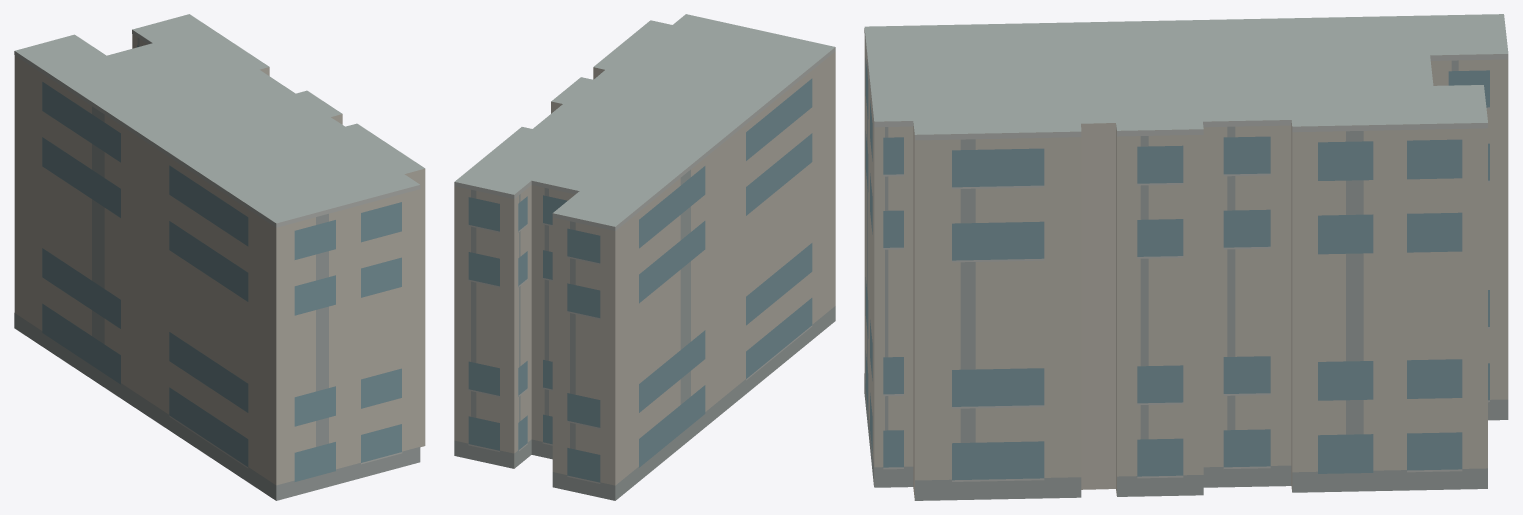
File: survey-upis-32616631.glb
3 renders of one model, left to right at view 1: azimuth 30°, elevation 25°; view 2: azimuth 150°, elevation 25°; view 3: azimuth 270°, elevation 25°, orthographic. The views are drawn at different scales.
Parts seen in each view (by area): view 1: survey-upis-32616631.tmp; view 2: survey-upis-32616631.tmp; view 3: survey-upis-32616631.tmp.
Part boxes in pixels (x1,y1,x2,y2): survey-upis-32616631.tmp: [14, 14, 425, 500]; survey-upis-32616631.tmp: [454, 14, 835, 500]; survey-upis-32616631.tmp: [864, 14, 1508, 500].
Size of the model in its own units: 11.19 by 15.8 by 25.2.
